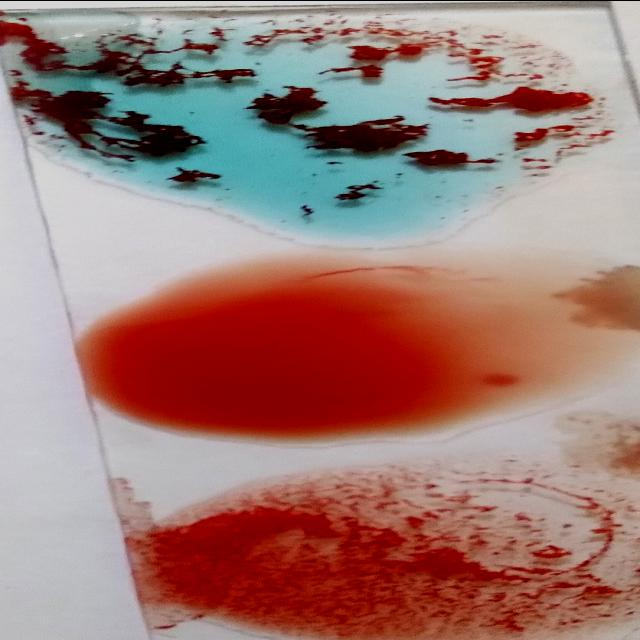A: (22, 27, 580, 205)
D: (140, 476, 626, 636)
